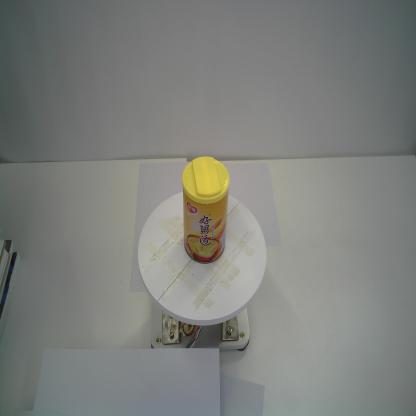Canned Food: (182, 155, 230, 264)
